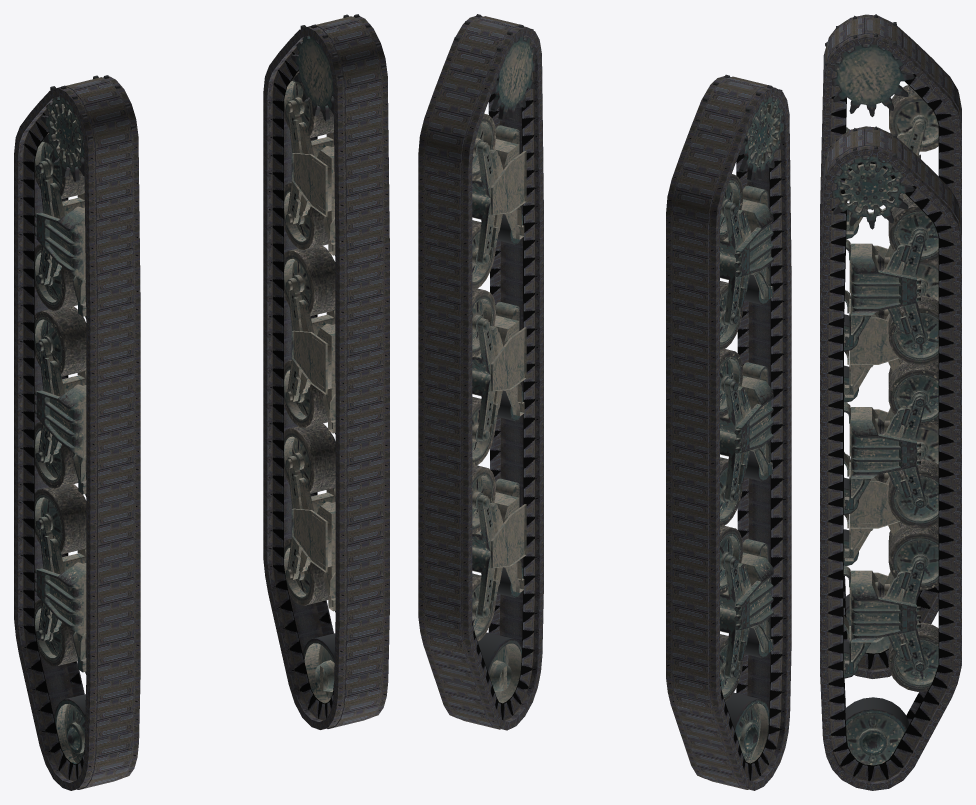
The model's file is Chassis.glb.
3 renders of one model, left to right at view 1: azimuth 30°, elevation 25°; view 2: azimuth 150°, elevation 25°; view 3: azimuth 270°, elevation 25°, orthographic. The views are drawn at different scales.
Visible parts, largest first — view 1: set_0_group_0, set_1_group_0, set_2_group_0, set_3_group_0; view 2: set_0_group_0, set_1_group_0, set_3_group_0, set_2_group_0; view 3: set_3_group_0, set_0_group_0, set_2_group_0, set_1_group_0.
Part boxes in pixels (x1,y1,x2,y2): set_0_group_0: (263,16,389,729); set_1_group_0: (14,76,140,790); set_2_group_0: (34,75,136,764); set_3_group_0: (284,14,386,703); set_0_group_0: (418,16,543,730); set_1_group_0: (666,76,791,790); set_3_group_0: (447,14,535,703); set_2_group_0: (695,74,784,763); set_3_group_0: (824,126,938,765); set_0_group_0: (820,126,961,790); set_2_group_0: (824,14,938,653); set_1_group_0: (820,14,961,678).
Bounding box in the file's own units: 2.58 × 5.7 × 1.14.
Materials: 4 (4 with a texture image).
